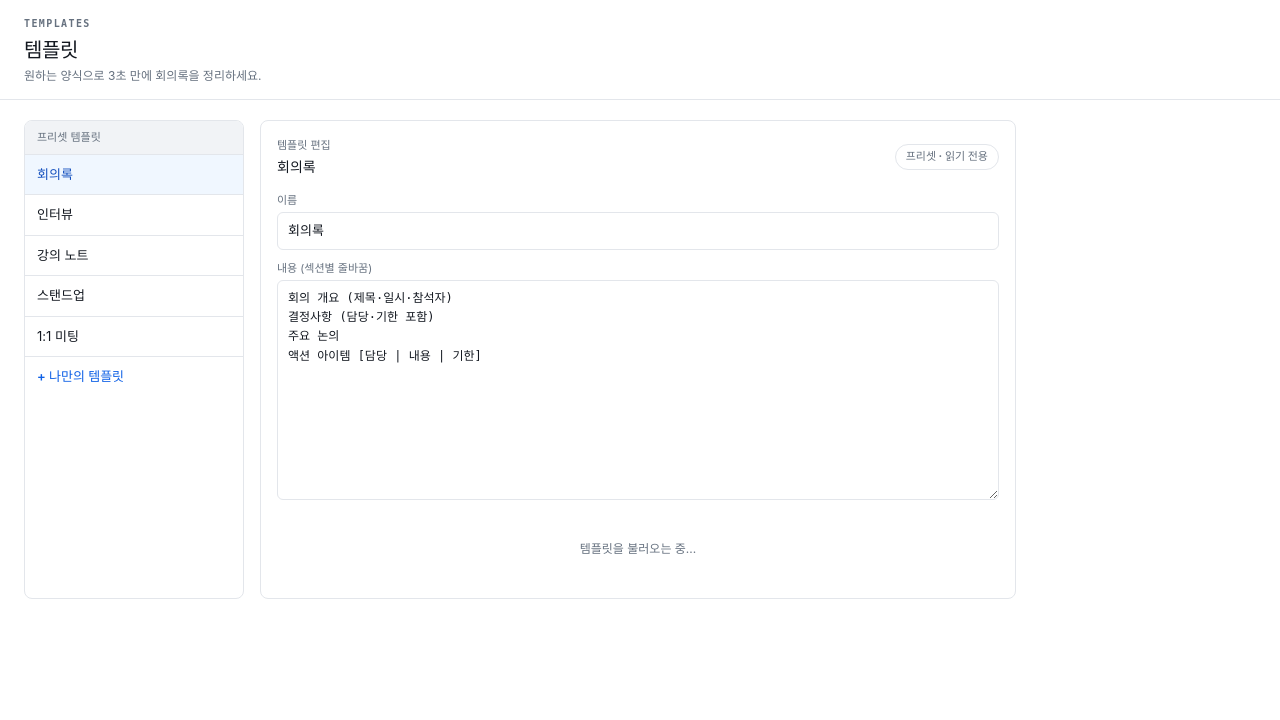
Test: TemplatesScreen › rejects an empty template name
What coordinates should you click on to do the following:
click the button "+ 나만의 템플릿"
I would click on:
 (134, 377)
Its box is x1=25 y1=357 x2=243 y2=396.
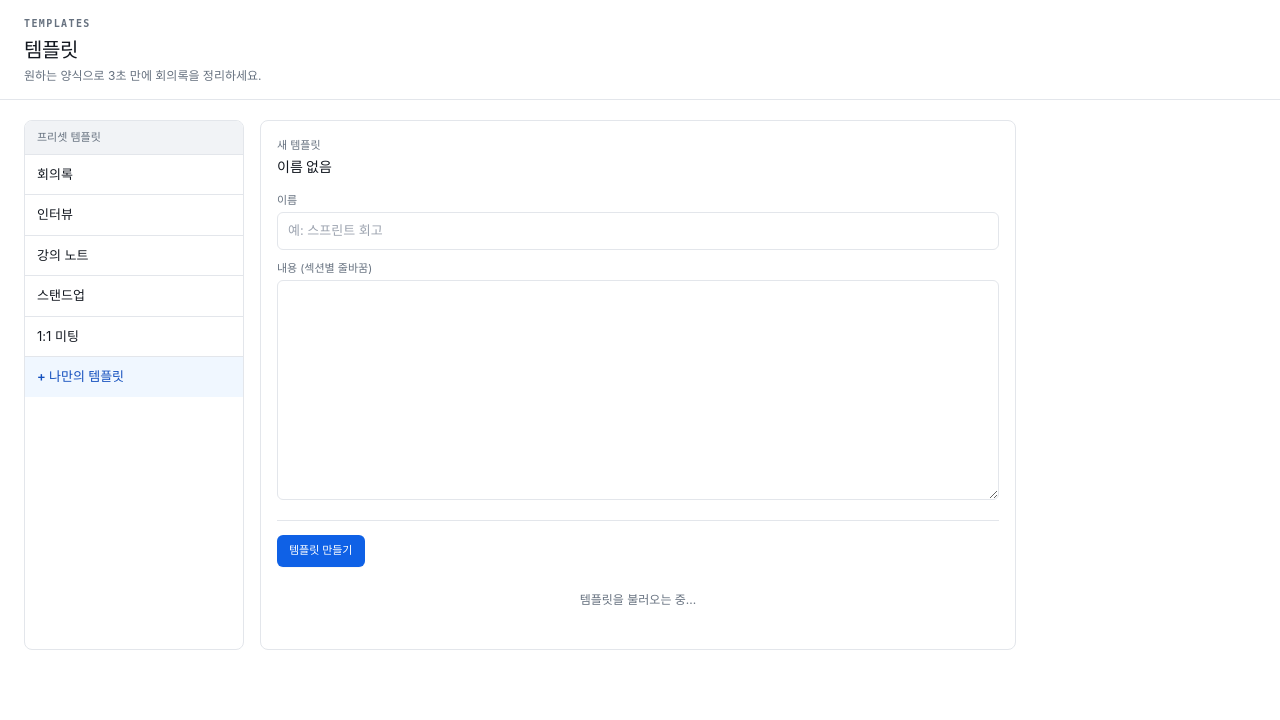
What coordinates should you click on to do the following:
click the button "템플릿 만들기"
I would click on:
 (321, 551)
Its box is x1=277 y1=535 x2=364 y2=567.
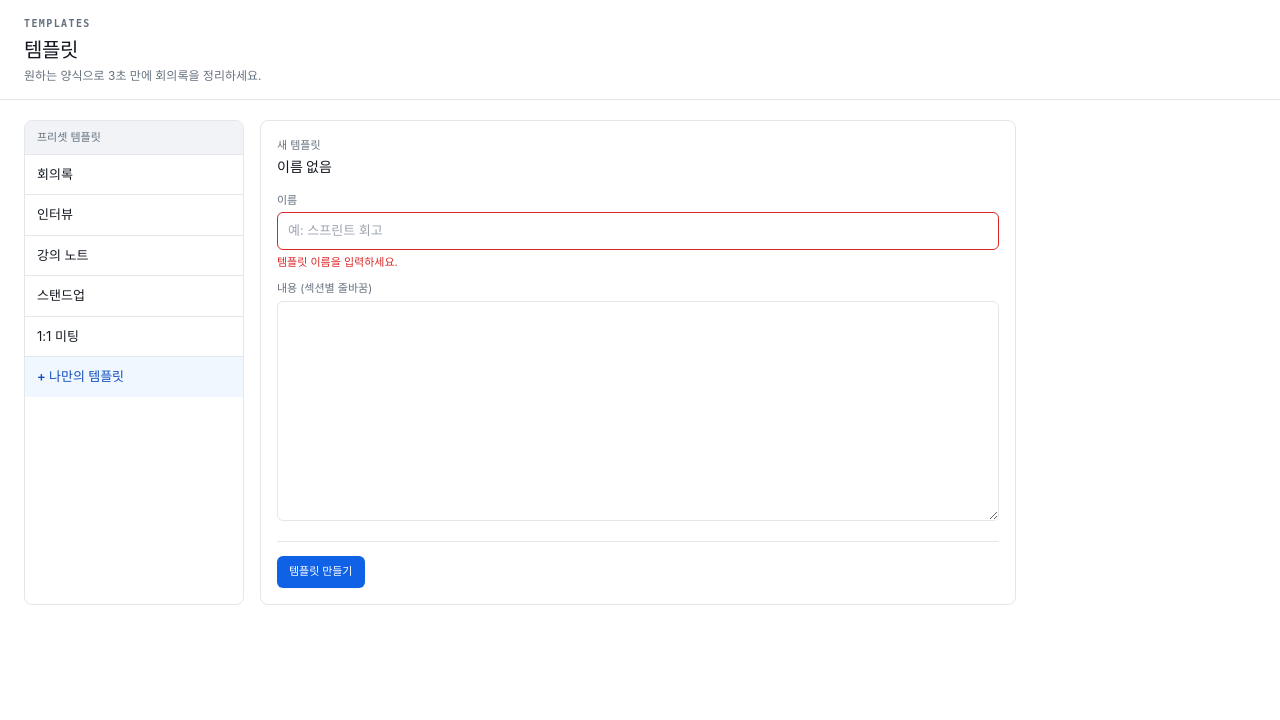
Expected: the text "템플릿 이름을 입력하세요." is shown, x1=277 y1=254 x2=398 y2=268
